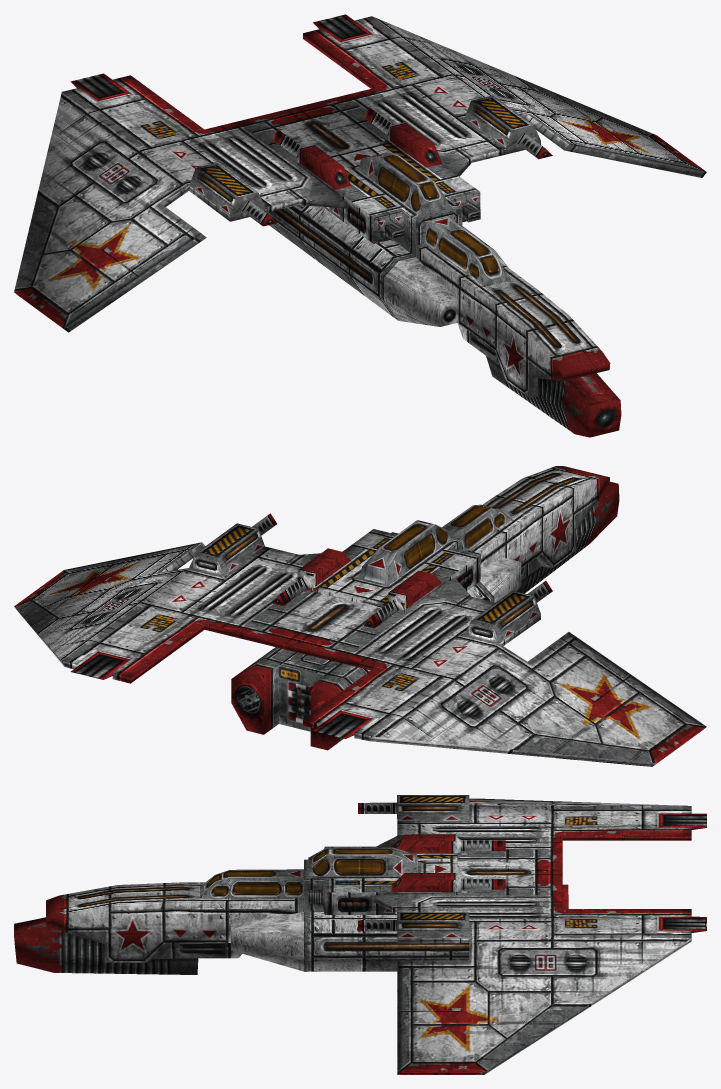
Rendered from saber.glb.
3 renders of one model, top to bottom at view 1: azimuth 30°, elevation 25°; view 2: azimuth 150°, elevation 25°; view 3: azimuth 270°, elevation 25°, orthographic. The views are drawn at different scales.
Parts seen in each view (by area): view 1: Sabre Body, Sabre Frnt cockpit; view 2: Sabre Body, Sabre Frnt cockpit; view 3: Sabre Body, Sabre Frnt cockpit.
Boxes of the visible parts, bbox=[...] form: Sabre Body: bbox=[14, 14, 706, 437]; Sabre Frnt cockpit: bbox=[424, 216, 510, 286]; Sabre Body: bbox=[14, 466, 706, 766]; Sabre Frnt cockpit: bbox=[442, 504, 511, 551]; Sabre Body: bbox=[14, 795, 706, 1074]; Sabre Frnt cockpit: bbox=[200, 869, 303, 898].
Bounding box in the file's own units: 1142 × 232 × 1222.
Materials: 1 (1 with a texture image).
